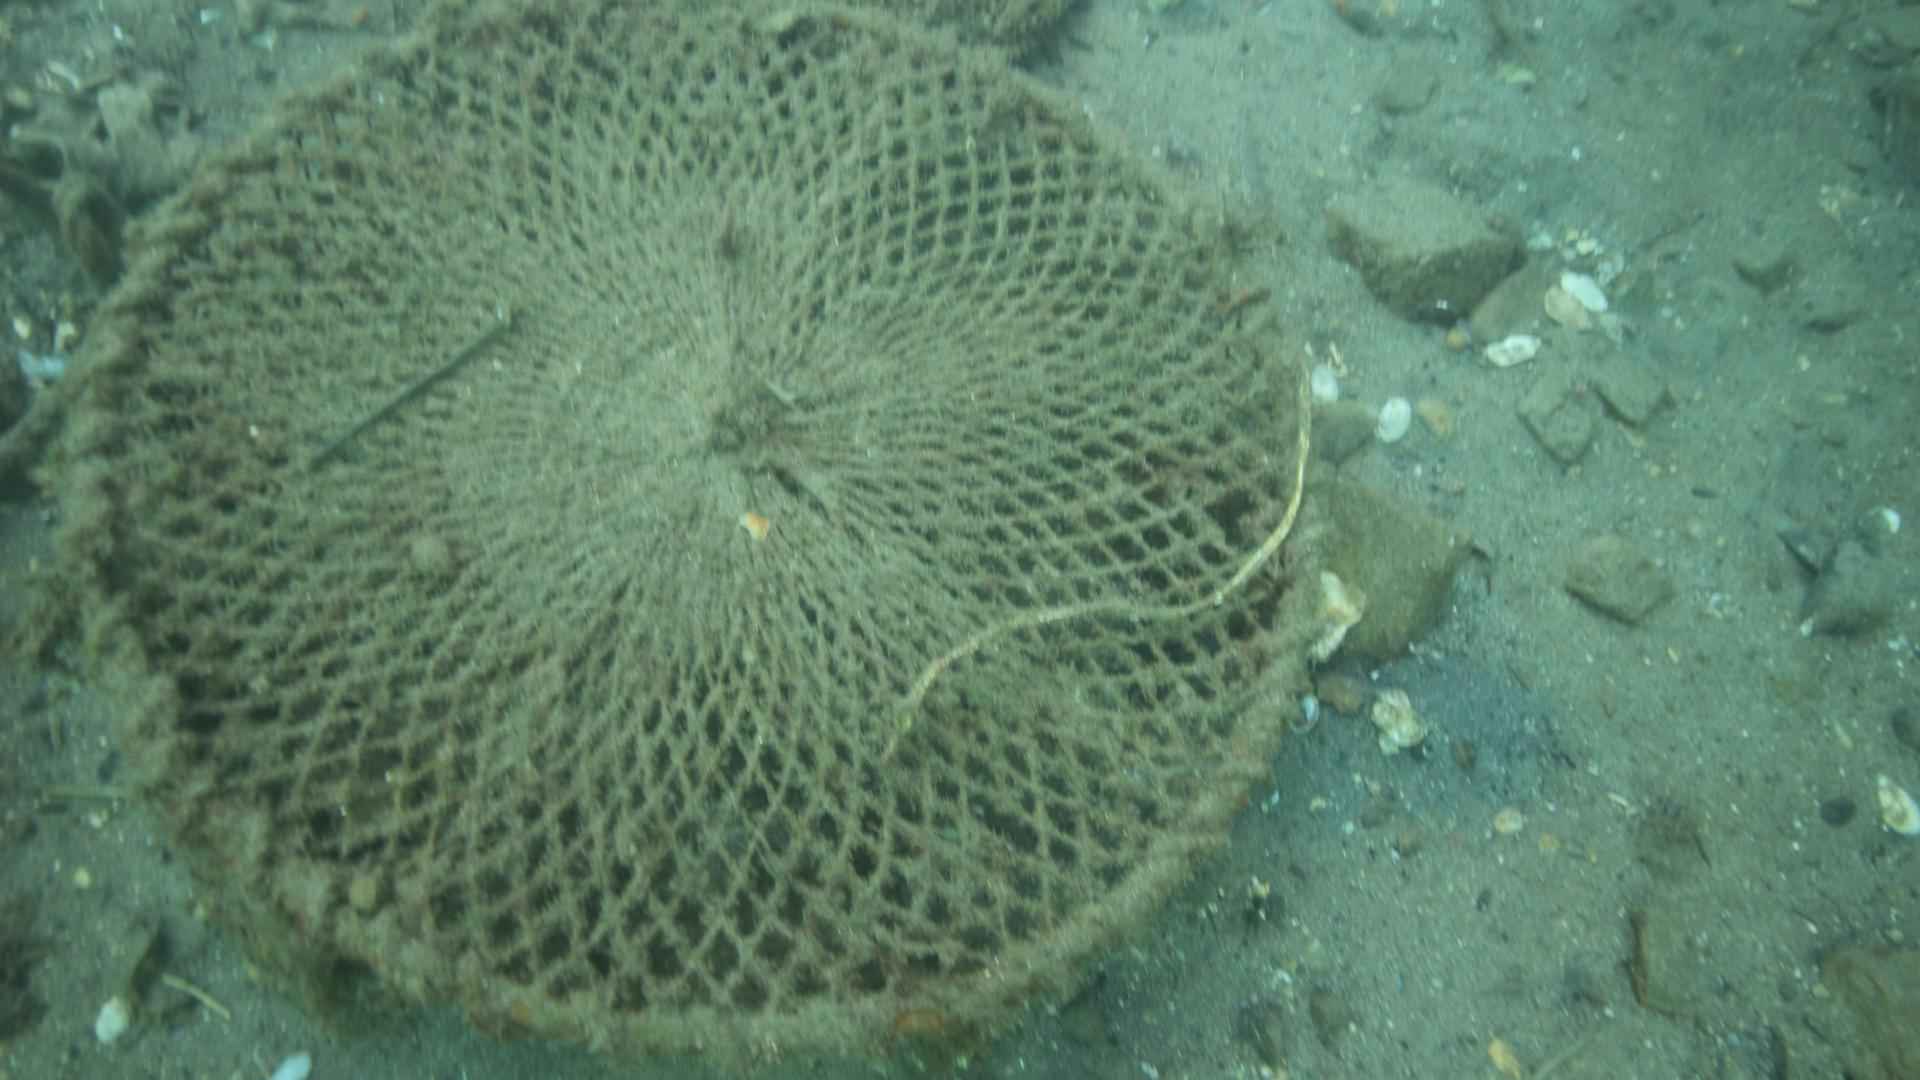circular fish trap: (53, 0, 1342, 1080)
